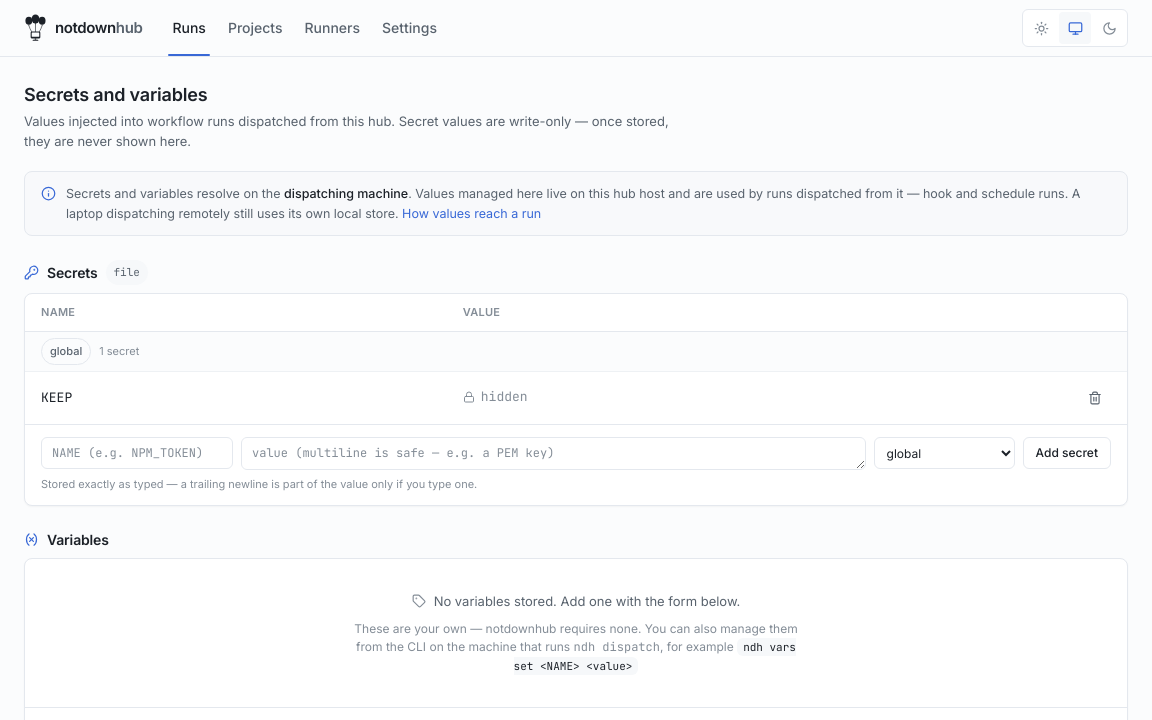
Scenario: Settings › keeps the confirm dialog open and shows the message when a secret delete fails
The image size is (1152, 720).
expect the text "KEEP" is shown: met, box 25,372 -> 447,424
Click the button named "Delete secret KEEP (global)" at (1095, 398), box 1079,382 -> 1111,414
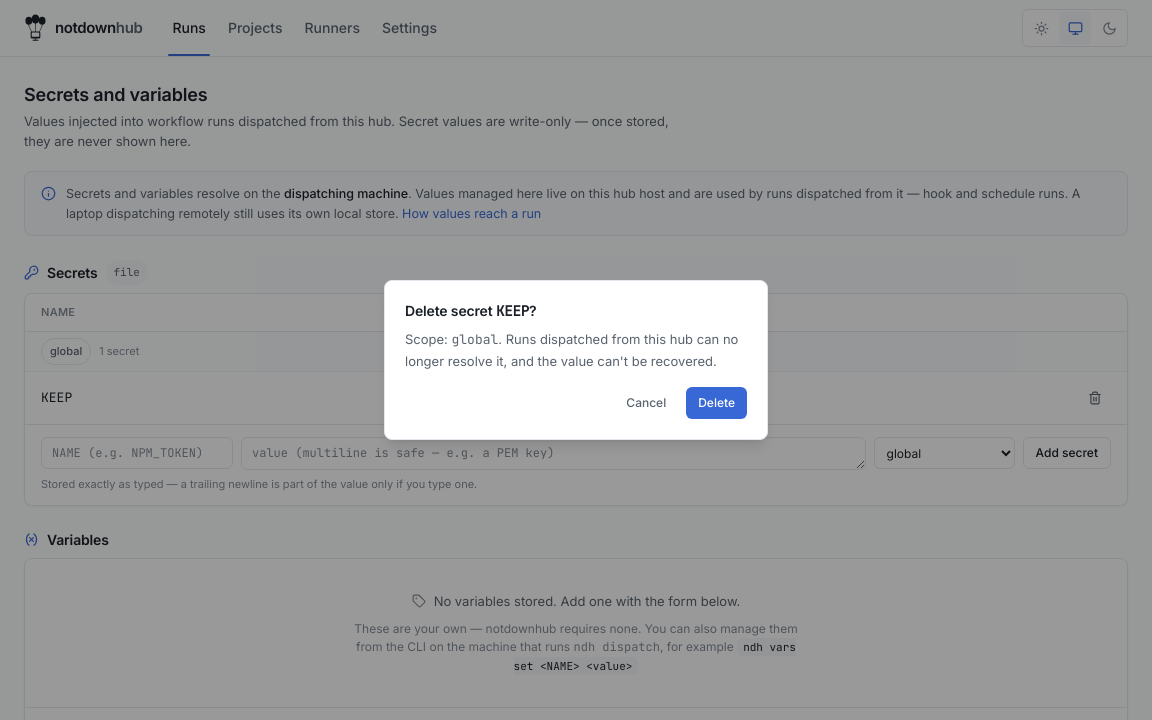
Click the button "Delete" at (717, 403), box 686,387 -> 747,419
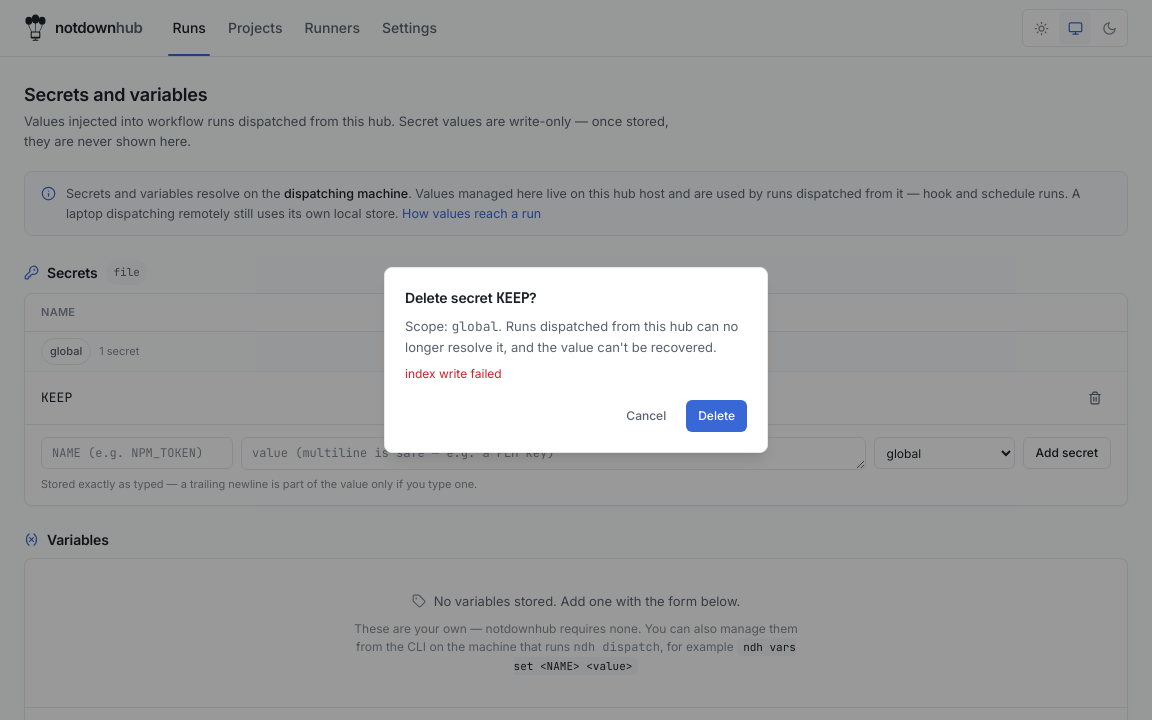
expect the text "index write failed" is shown: met, box 405,366 -> 502,381
Click the button "Cancel" at (646, 416), box 614,400 -> 678,432
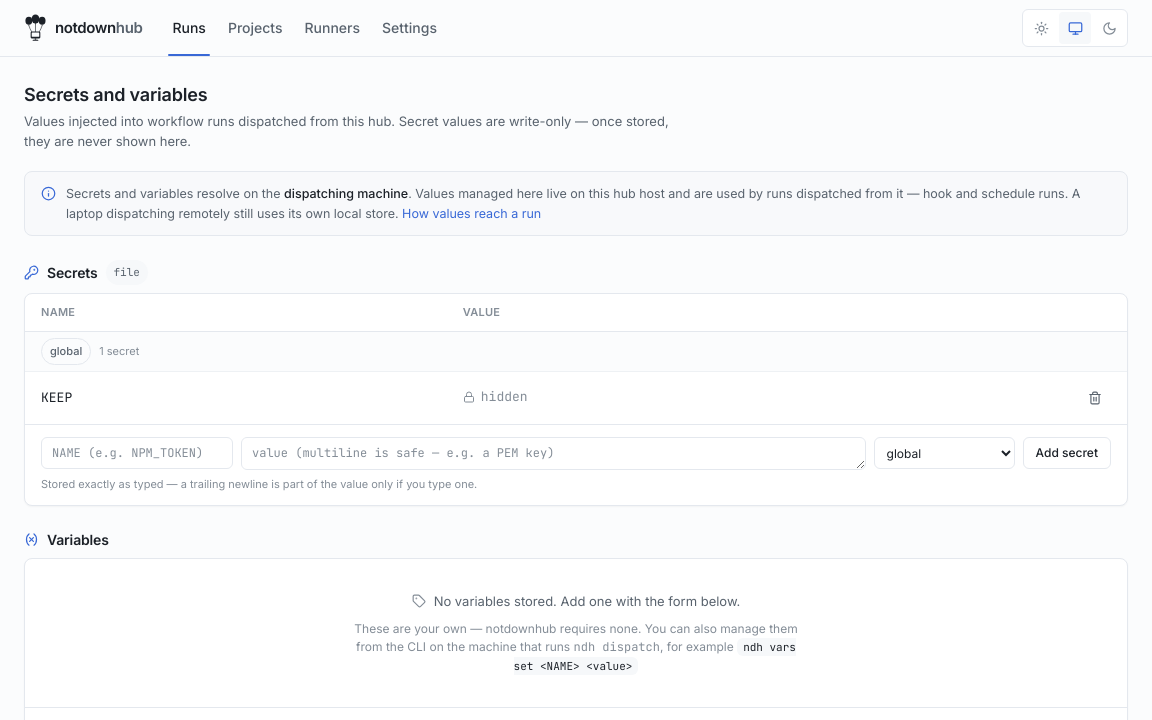
expect the text "KEEP" is shown: met, box 25,372 -> 447,424
expect the dialog is gone: met
